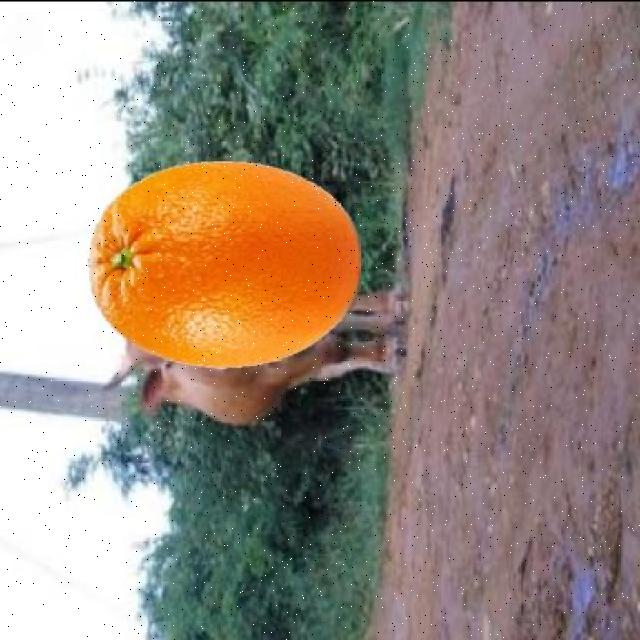Orange: (86, 157, 362, 369)
